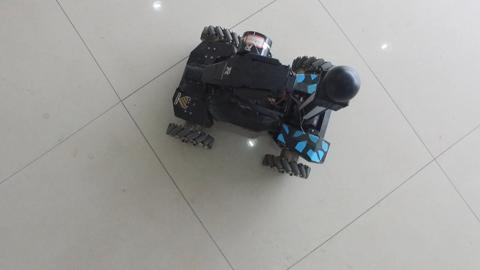chariot: (166, 17, 351, 183)
